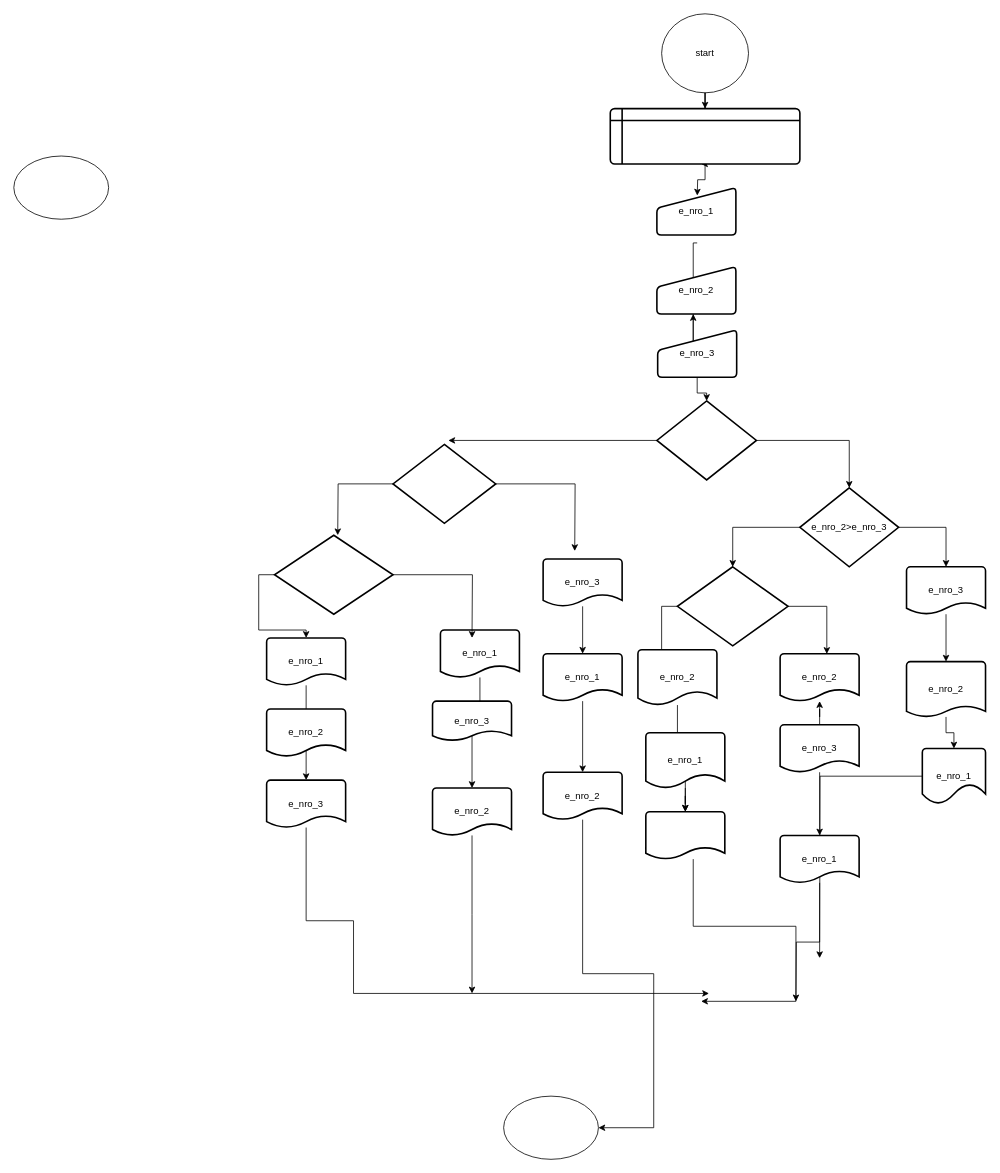
Some shapes in this 1000 by 1173 pixel diagram are drawn without their labels. The shapes that lost their labels are listed below. From the top down, each one's centre as x and y in pixels, then its label:
At (x=704, y=135): "e_nro,_1,e_nro2,e_nro3".
At (x=706, y=440): "e_nro_1>e_nro_2".
At (x=444, y=483): "e_nro_1>e_nro_3".
At (x=333, y=574): "e_nro_2_>e_nro_3".
At (x=732, y=606): "e_nro1>e_nro_3".
At (x=685, y=835): "e_nro-#".
At (x=550, y=1127): "end".
